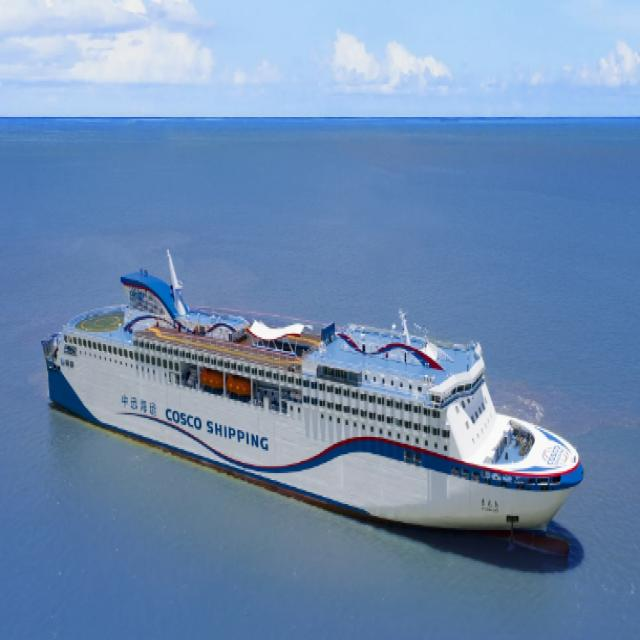houseboat: (39, 229, 591, 556)
